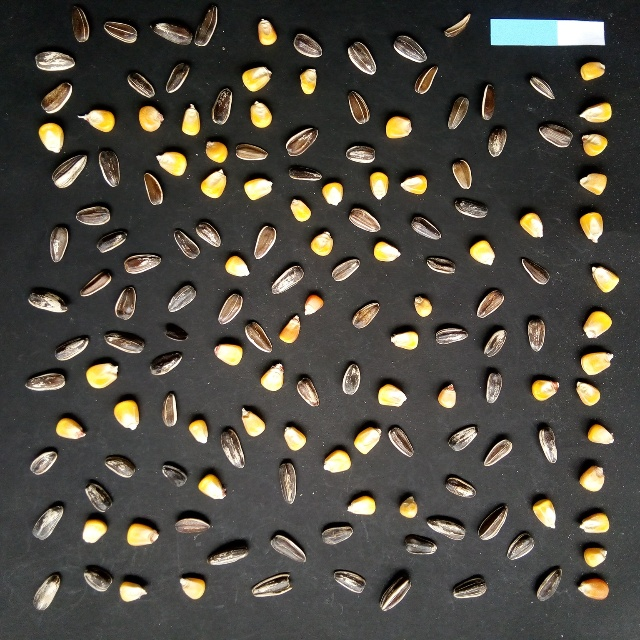escala: (490, 19, 604, 44)
girasol: (376, 569, 415, 615), (46, 153, 91, 189), (475, 496, 510, 542), (29, 502, 68, 543), (479, 431, 516, 473), (22, 286, 73, 316), (267, 531, 310, 566), (248, 568, 296, 599), (282, 120, 320, 158), (531, 560, 566, 601), (30, 571, 64, 613), (101, 325, 147, 356), (533, 422, 564, 468), (268, 259, 306, 296), (164, 277, 200, 316), (388, 32, 430, 65), (81, 478, 116, 516), (22, 368, 67, 397), (534, 120, 575, 151), (384, 424, 420, 459), (345, 39, 379, 76), (274, 459, 300, 507), (193, 3, 220, 49), (423, 513, 467, 541), (327, 566, 368, 596), (504, 529, 538, 565), (30, 48, 77, 74), (147, 347, 184, 380), (123, 249, 165, 278), (250, 222, 279, 264), (77, 267, 115, 299), (53, 329, 91, 361), (147, 19, 192, 46), (342, 87, 373, 126), (473, 285, 507, 320), (295, 369, 324, 410), (338, 357, 367, 398), (39, 80, 75, 113), (405, 212, 443, 243), (522, 314, 550, 356), (448, 574, 490, 602), (519, 253, 552, 288), (448, 194, 492, 220), (214, 289, 244, 327), (439, 472, 479, 500), (289, 28, 325, 59), (120, 68, 156, 99), (161, 58, 191, 95), (206, 543, 250, 568), (95, 147, 121, 189), (350, 298, 383, 331), (68, 6, 95, 46), (173, 510, 213, 537), (481, 325, 511, 361), (347, 204, 384, 233), (318, 519, 355, 548), (100, 452, 138, 480), (218, 425, 242, 469), (445, 91, 470, 133), (26, 448, 62, 477), (445, 424, 481, 453), (157, 389, 183, 429), (46, 222, 70, 265), (100, 18, 138, 45), (441, 11, 473, 43), (410, 62, 439, 97), (70, 205, 114, 228), (210, 86, 235, 126), (90, 228, 130, 253), (448, 156, 475, 193), (156, 458, 189, 488), (138, 171, 164, 209), (113, 285, 139, 322), (80, 564, 113, 593), (525, 74, 556, 104), (480, 369, 505, 406), (329, 256, 363, 283), (233, 139, 271, 163), (157, 317, 192, 343), (484, 124, 509, 159), (431, 324, 469, 347), (401, 533, 438, 556), (282, 163, 324, 183), (478, 80, 498, 122), (422, 253, 456, 277), (344, 143, 377, 166)
maiz: (73, 105, 119, 137), (81, 359, 123, 390), (575, 208, 608, 246), (109, 577, 153, 605), (33, 118, 66, 155), (238, 63, 277, 94), (579, 307, 614, 341), (109, 398, 145, 431), (197, 166, 230, 201), (573, 572, 611, 602), (123, 519, 162, 548), (587, 262, 622, 294), (579, 349, 619, 377), (367, 237, 404, 265), (577, 98, 614, 126), (237, 405, 268, 438), (352, 422, 383, 455), (344, 488, 377, 519), (241, 174, 275, 204), (257, 360, 287, 394), (528, 376, 562, 406), (528, 497, 558, 531), (154, 149, 189, 178), (374, 381, 409, 410), (576, 169, 611, 197), (53, 415, 89, 442), (196, 471, 227, 502), (320, 447, 352, 477), (576, 463, 608, 493), (583, 419, 617, 447), (574, 511, 612, 536), (79, 516, 110, 546), (466, 238, 497, 268), (247, 97, 275, 130), (176, 574, 209, 602), (212, 340, 246, 367), (382, 113, 413, 142), (571, 379, 602, 408), (433, 379, 461, 411), (136, 104, 166, 133), (397, 171, 428, 199), (253, 15, 279, 48), (518, 211, 547, 240), (178, 101, 202, 136), (223, 251, 251, 281), (579, 132, 611, 158), (365, 169, 390, 202), (278, 310, 303, 343), (201, 136, 230, 164), (580, 543, 611, 569), (388, 329, 421, 353), (281, 425, 310, 452), (578, 58, 609, 83), (308, 230, 336, 257), (185, 417, 211, 445), (288, 196, 314, 222), (321, 181, 346, 208), (410, 292, 435, 319), (297, 66, 320, 95), (302, 289, 325, 317), (398, 490, 420, 519)
